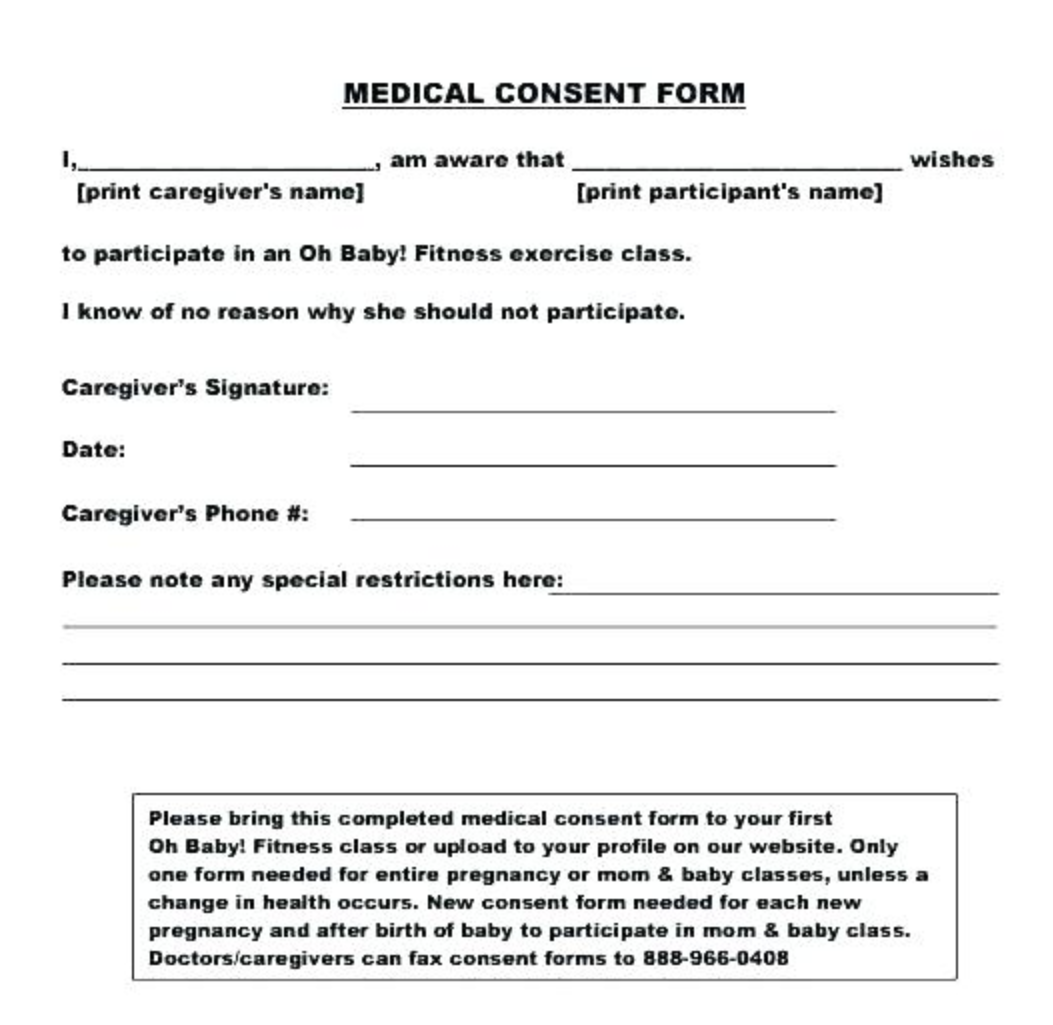textline: (52, 600, 1004, 638), (52, 636, 1005, 673), (52, 673, 1006, 709), (343, 375, 843, 422), (343, 436, 843, 478), (558, 559, 1004, 606), (343, 495, 843, 531), (568, 139, 911, 180), (74, 142, 387, 181)
